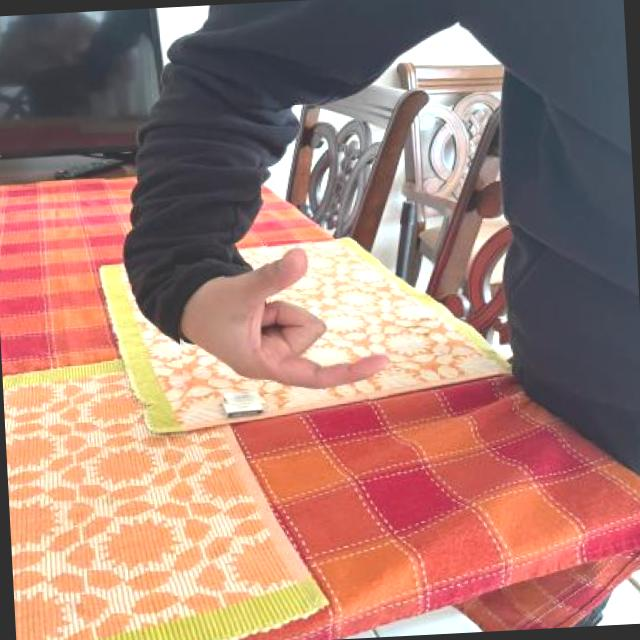G: (173, 235, 388, 410)
